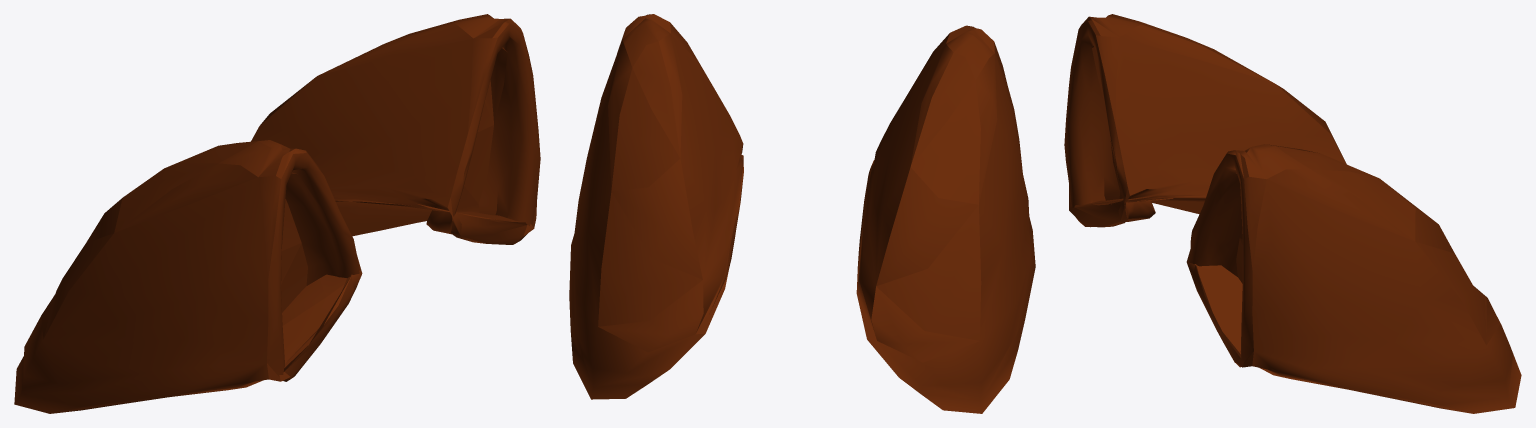
3 views of the same model, side by side, from view 1: azimuth 30°, elevation 25°; view 2: azimuth 150°, elevation 25°; view 3: azimuth 270°, elevation 25° (orthographic). The views are drawn at different scales.
Visible parts, largest first — view 1: ears_006.005; view 2: ears_006.005; view 3: ears_006.005.
Part boxes in pixels (x1,y1,x2,y2): ears_006.005: (14,14,540,413); ears_006.005: (569,14,1035,413); ears_006.005: (1064,14,1521,413).
Size of the model in its own units: 84.19 by 74.55 by 52.81.
